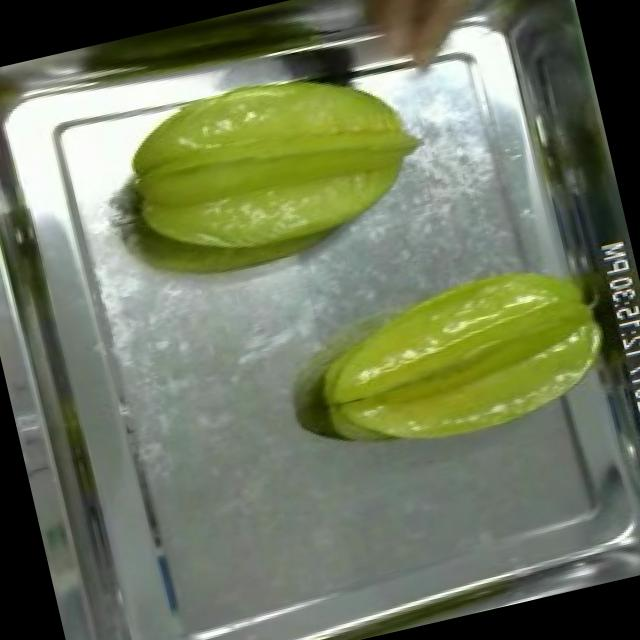fruit: (103, 39, 442, 288), (287, 237, 630, 477)
